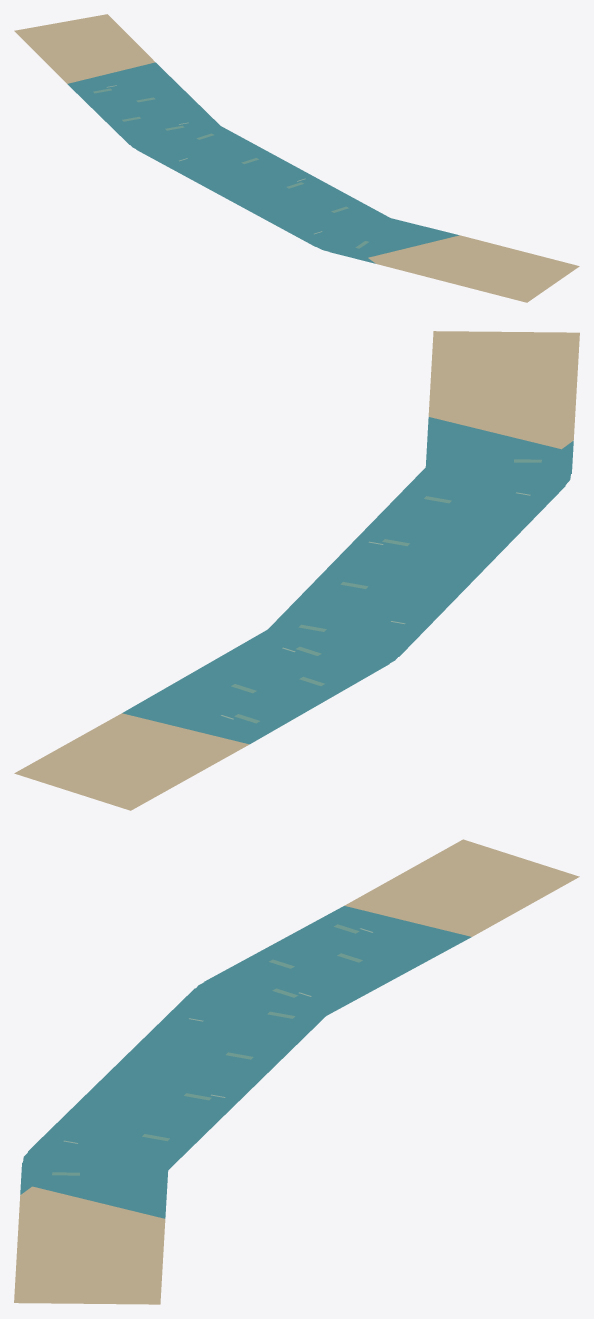
The model's file is route-steps_s-ford-water.glb.
The picture shows the model from 3 angles, top to bottom: view 1: azimuth 30°, elevation 25°; view 2: azimuth 150°, elevation 25°; view 3: azimuth 330°, elevation 25°; orthographic projection. The views are drawn at different scales.
Visible parts, largest first — view 1: Surveyed floor · route-steps_s-ford-water, Reed Steps to Reed Ford / #76aaa0; view 2: Surveyed floor · route-steps_s-ford-water, Reed Steps to Reed Ford / #76aaa0; view 3: Surveyed floor · route-steps_s-ford-water, Reed Steps to Reed Ford / #76aaa0.
Boxes of the visible parts, left/top/right/bottom form: Surveyed floor · route-steps_s-ford-water: left=14, top=14, right=579, bottom=302; Reed Steps to Reed Ford / #76aaa0: left=93, top=88, right=368, bottom=248; Surveyed floor · route-steps_s-ford-water: left=14, top=331, right=579, bottom=810; Reed Steps to Reed Ford / #76aaa0: left=231, top=459, right=541, bottom=723; Surveyed floor · route-steps_s-ford-water: left=14, top=839, right=579, bottom=1304; Reed Steps to Reed Ford / #76aaa0: left=52, top=924, right=362, bottom=1175.
Size of the model in its own units: 13.16 by 0.3192 by 44.66.
